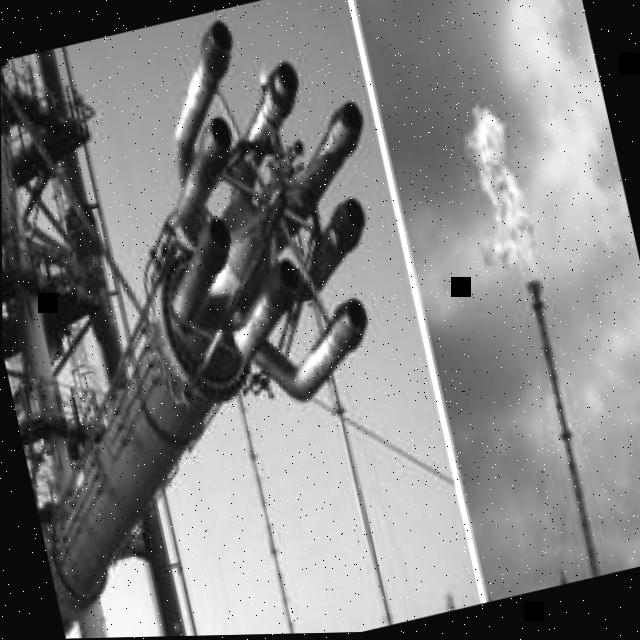fire: (462, 105, 538, 279)
